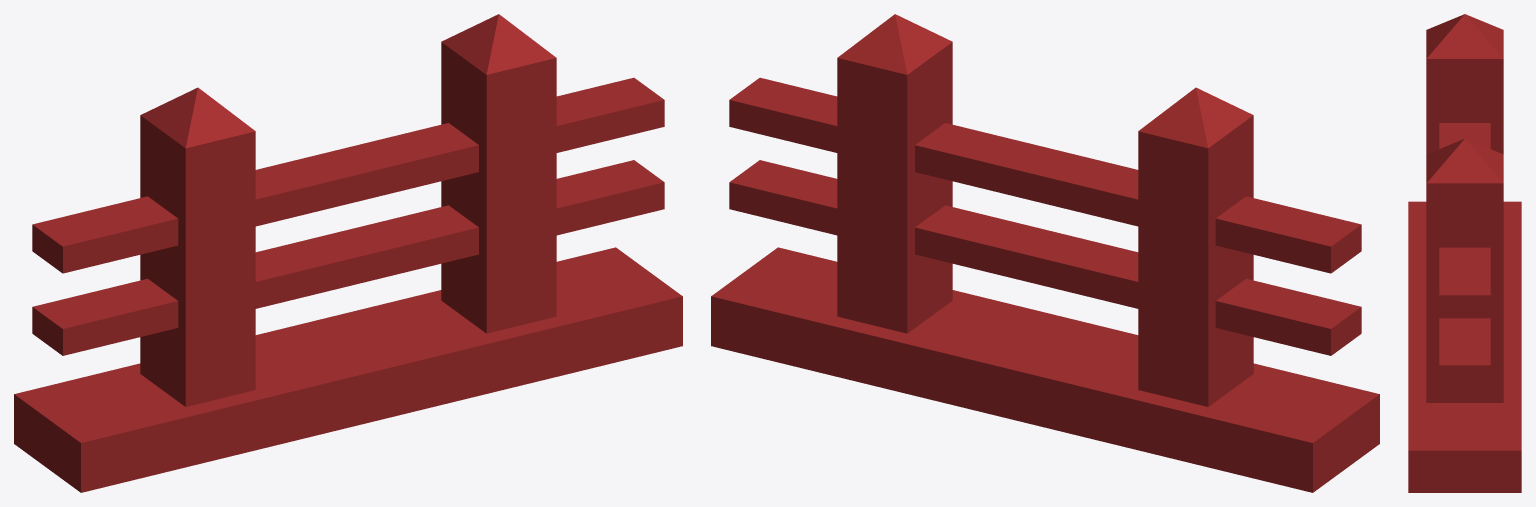
The model's file is Asian_Prop_Building_Fence_Handrail_02.FBX.
3 views of the same model, side by side, from view 1: azimuth 30°, elevation 25°; view 2: azimuth 150°, elevation 25°; view 3: azimuth 270°, elevation 25° (orthographic). The views are drawn at different scales.
Parts seen in each view (by area): view 1: Asian_Prop_Building_Fence_Handrail_02; view 2: Asian_Prop_Building_Fence_Handrail_02; view 3: Asian_Prop_Building_Fence_Handrail_02.
Part boxes in pixels (x1=…): Asian_Prop_Building_Fence_Handrail_02: x1=14, y1=14, x2=682, y2=492; Asian_Prop_Building_Fence_Handrail_02: x1=711, y1=14, x2=1379, y2=492; Asian_Prop_Building_Fence_Handrail_02: x1=1408, y1=14, x2=1521, y2=492.
Size of the model in its own units: 2584 by 1413 by 498.
